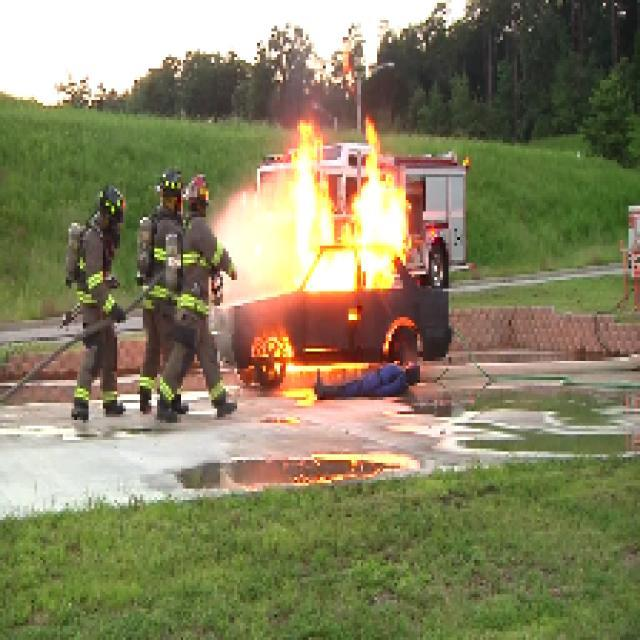Fire: (287, 139, 402, 291)
